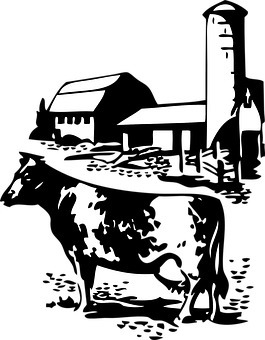cow: (3, 146, 234, 329)
